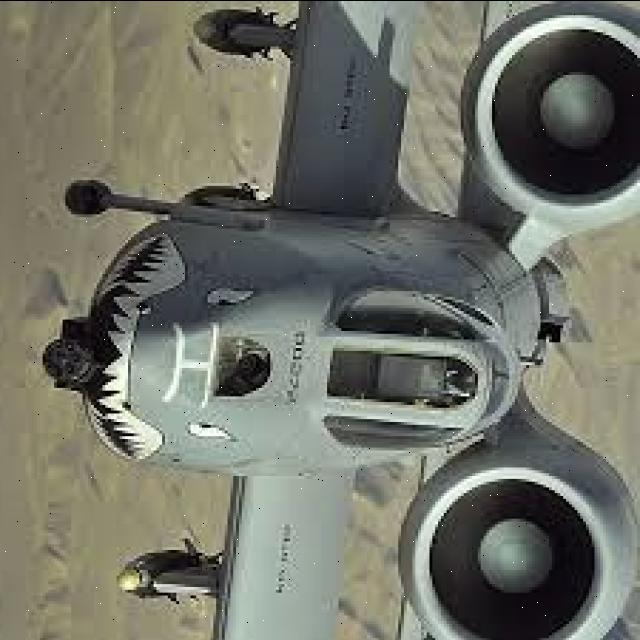A10: (20, 1, 633, 640)
